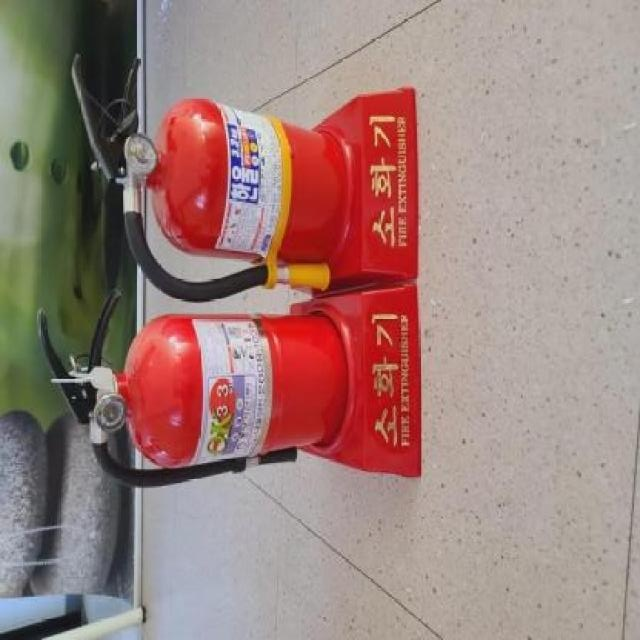fire extinguisher: (69, 51, 346, 303), (35, 287, 348, 487)
